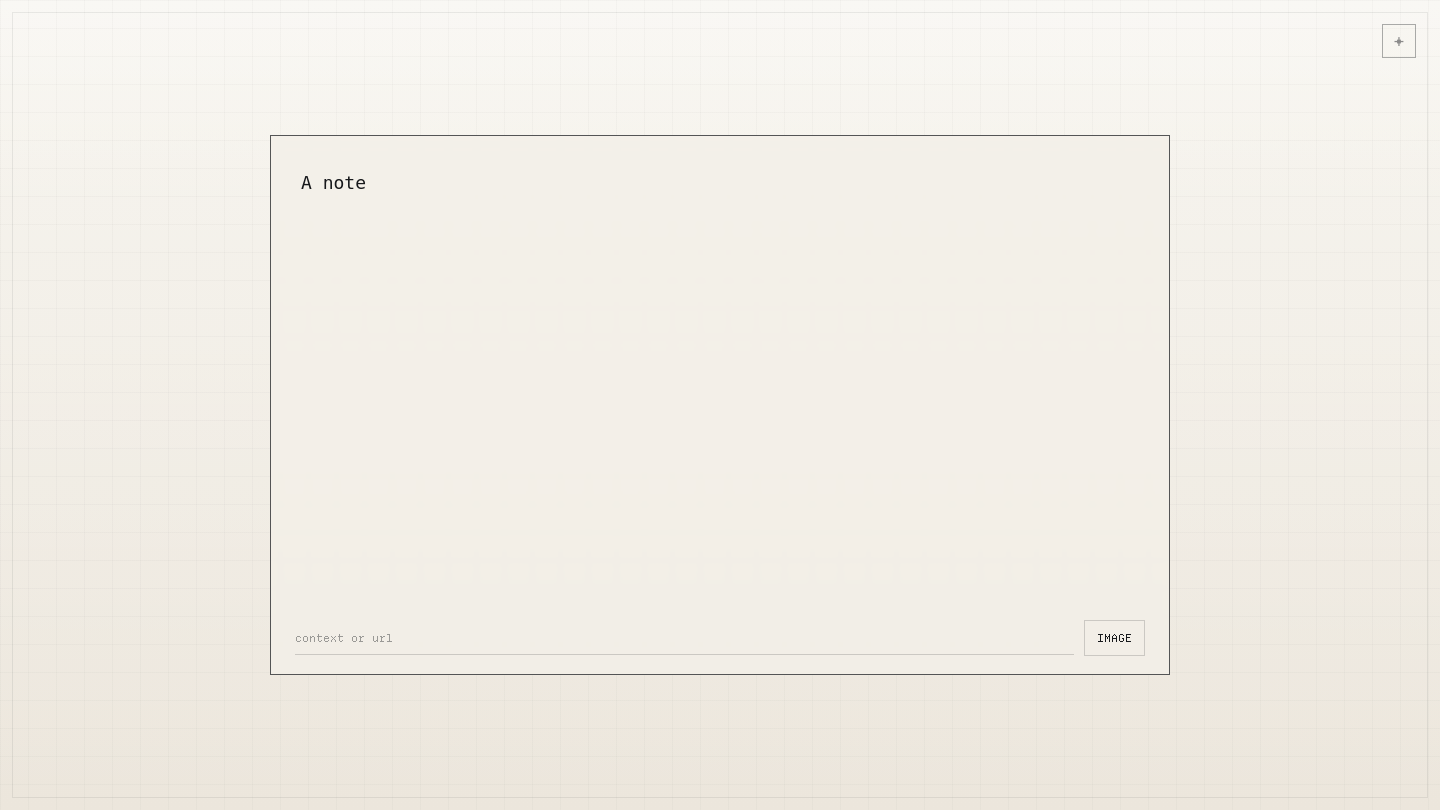
Test: failed save with image context shows an error and preserves the draft
Click the button with aria-label "Add image": click(1114, 638) [1084,620,1145,656]
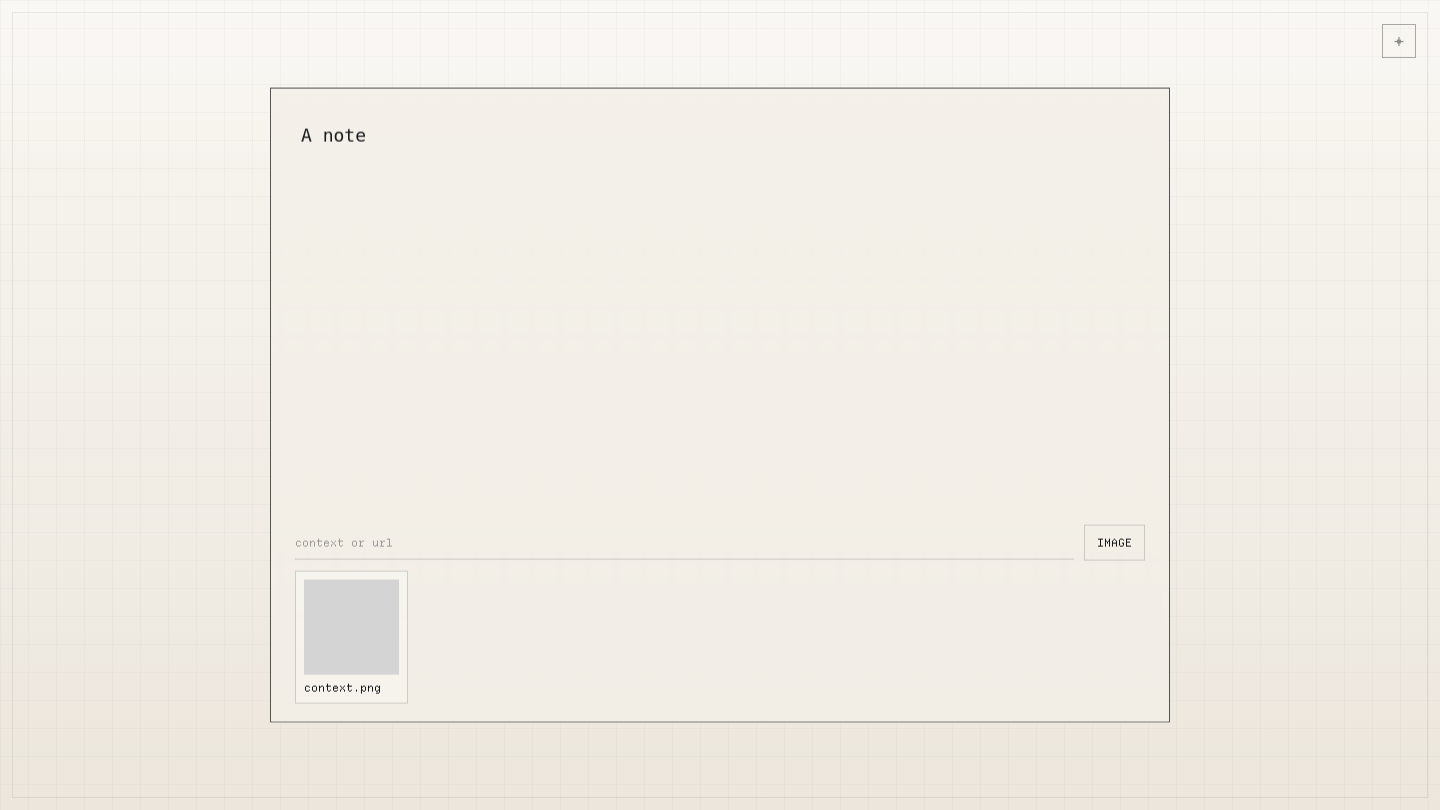
Expected: the text "context.png" is shown, [304,680,381,694]
Press Enter in the field named "Thought inbox editor", box [301,125,366,146]
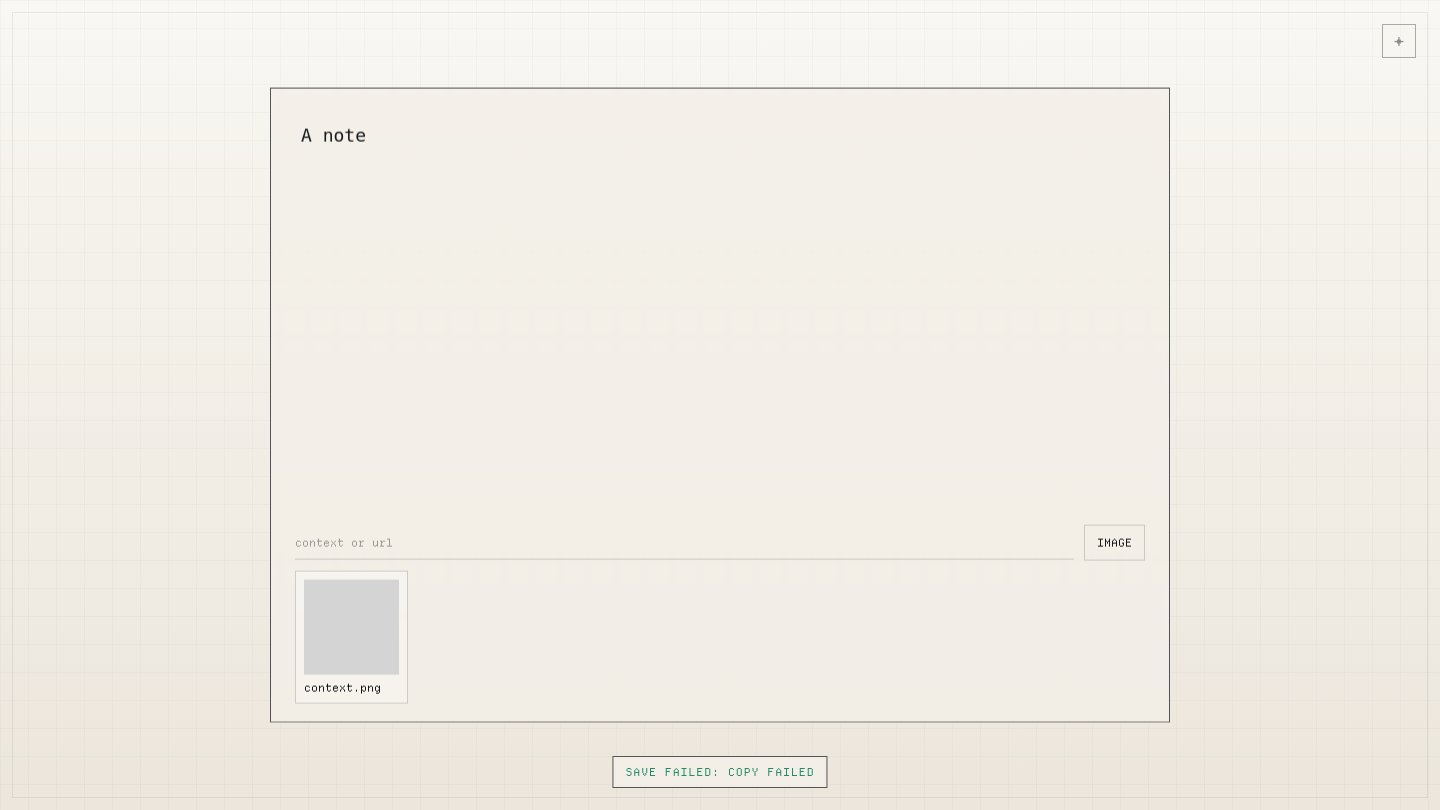
Expected: the text "context.png" is shown, [304,680,381,694]
Expected: the text "save failed: copy failed" is shown, [612,756,828,788]
